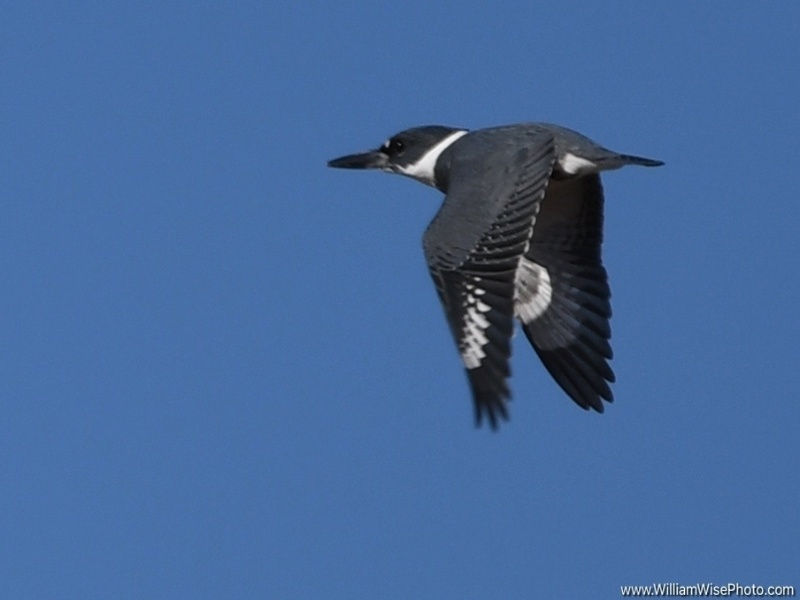kingfisher: (323, 121, 667, 437)
